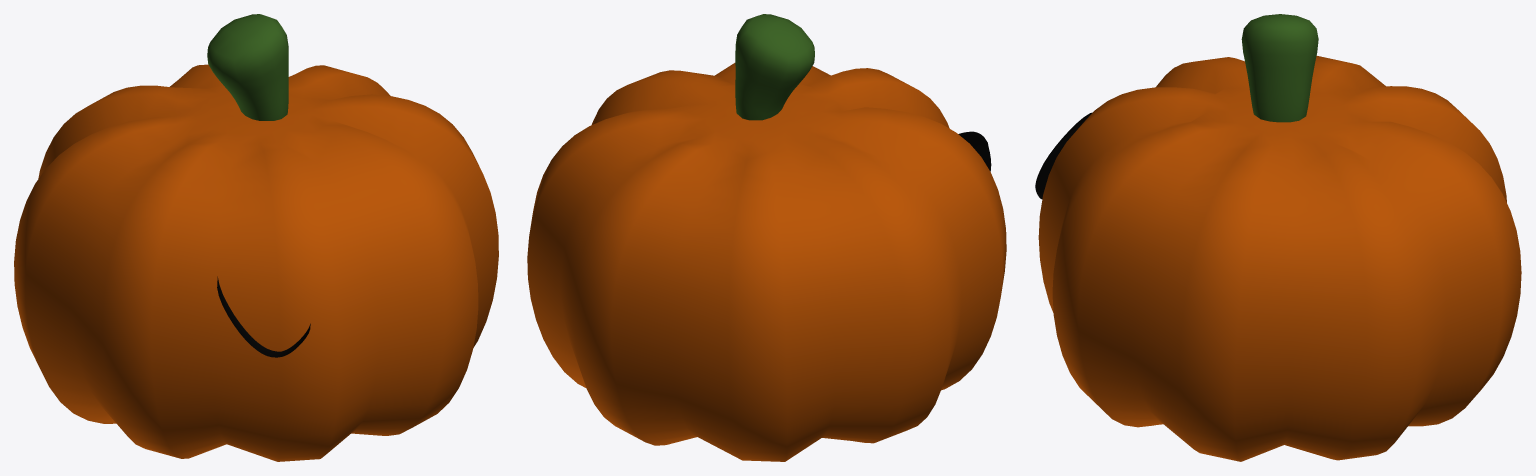
The model's file is pumpkin.glb.
3 views of the same model, side by side, from view 1: azimuth 30°, elevation 25°; view 2: azimuth 150°, elevation 25°; view 3: azimuth 270°, elevation 25° (orthographic). The views are drawn at different scales.
Visible parts, largest first — view 1: Sphere_021_Sphere_024.001, Stalk.023, Pumpkin.015; view 2: Sphere_021_Sphere_024.001, Stalk.023, Pumpkin.015; view 3: Sphere_021_Sphere_024.001, Stalk.023, Pumpkin.015.
Boxes of the visible parts, <box> form: Sphere_021_Sphere_024.001: <box>14,64,498,461</box>; Stalk.023: <box>207,14,288,120</box>; Pumpkin.015: <box>217,276,310,357</box>; Sphere_021_Sphere_024.001: <box>527,63,1006,461</box>; Stalk.023: <box>735,14,814,120</box>; Pumpkin.015: <box>958,131,991,171</box>; Sphere_021_Sphere_024.001: <box>1038,56,1521,461</box>; Stalk.023: <box>1241,14,1318,122</box>; Pumpkin.015: <box>1035,112,1092,199</box>.
Size of the model in its own units: 2.17 by 1.91 by 2.18.
